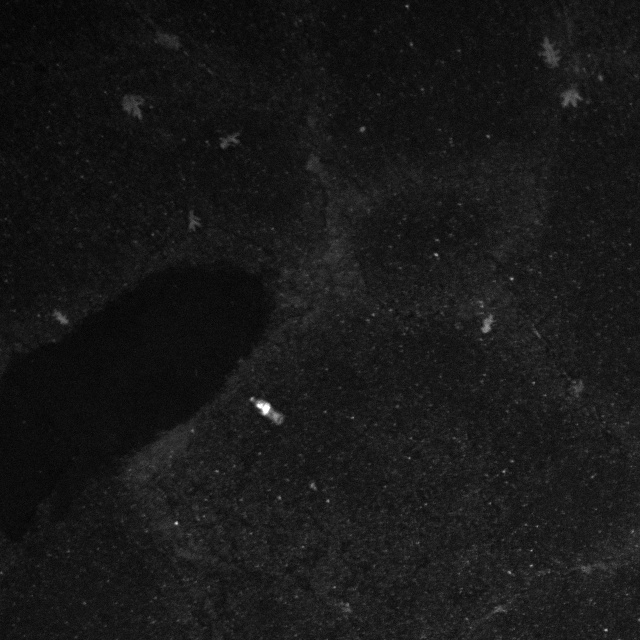bottle: (240, 392, 295, 429)
